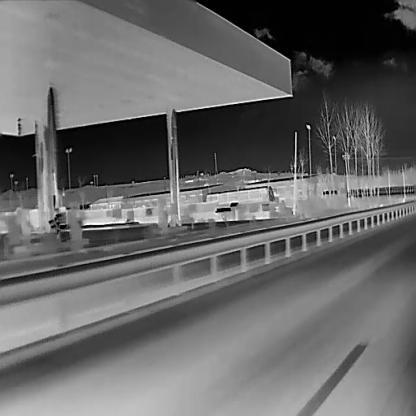car: (204, 184, 277, 205)
